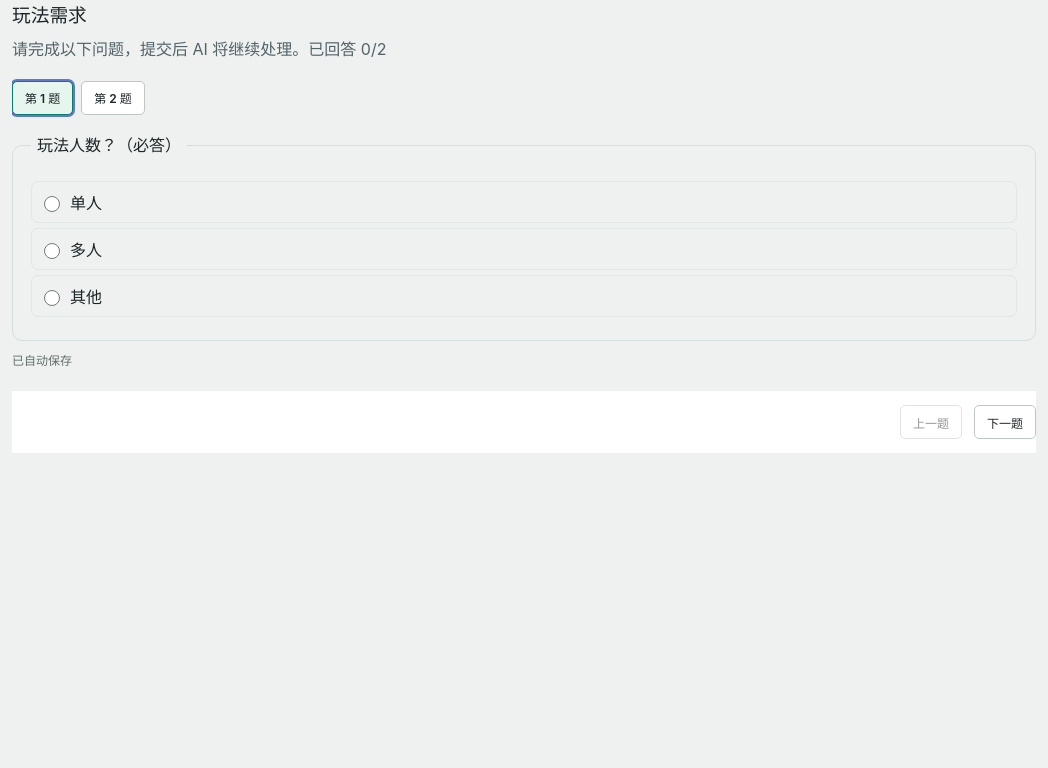
Test: retains the draft when the database rejects a stale revision
The width and height of the screenshot is (1048, 768).
Click the radio button labelled "单人": (52, 204) [44, 196, 60, 212]
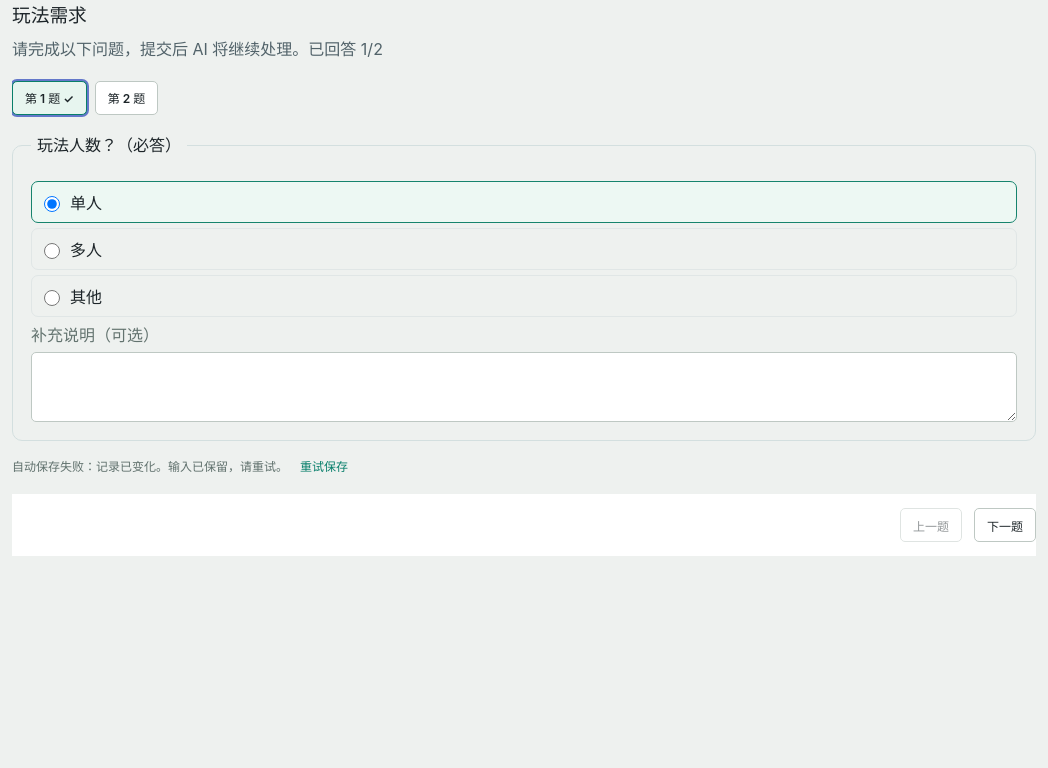
Result: the text "自动保存失败：记录已变化。输入已保留，请重试。 重试保存" is shown at [12, 451, 360, 482]
